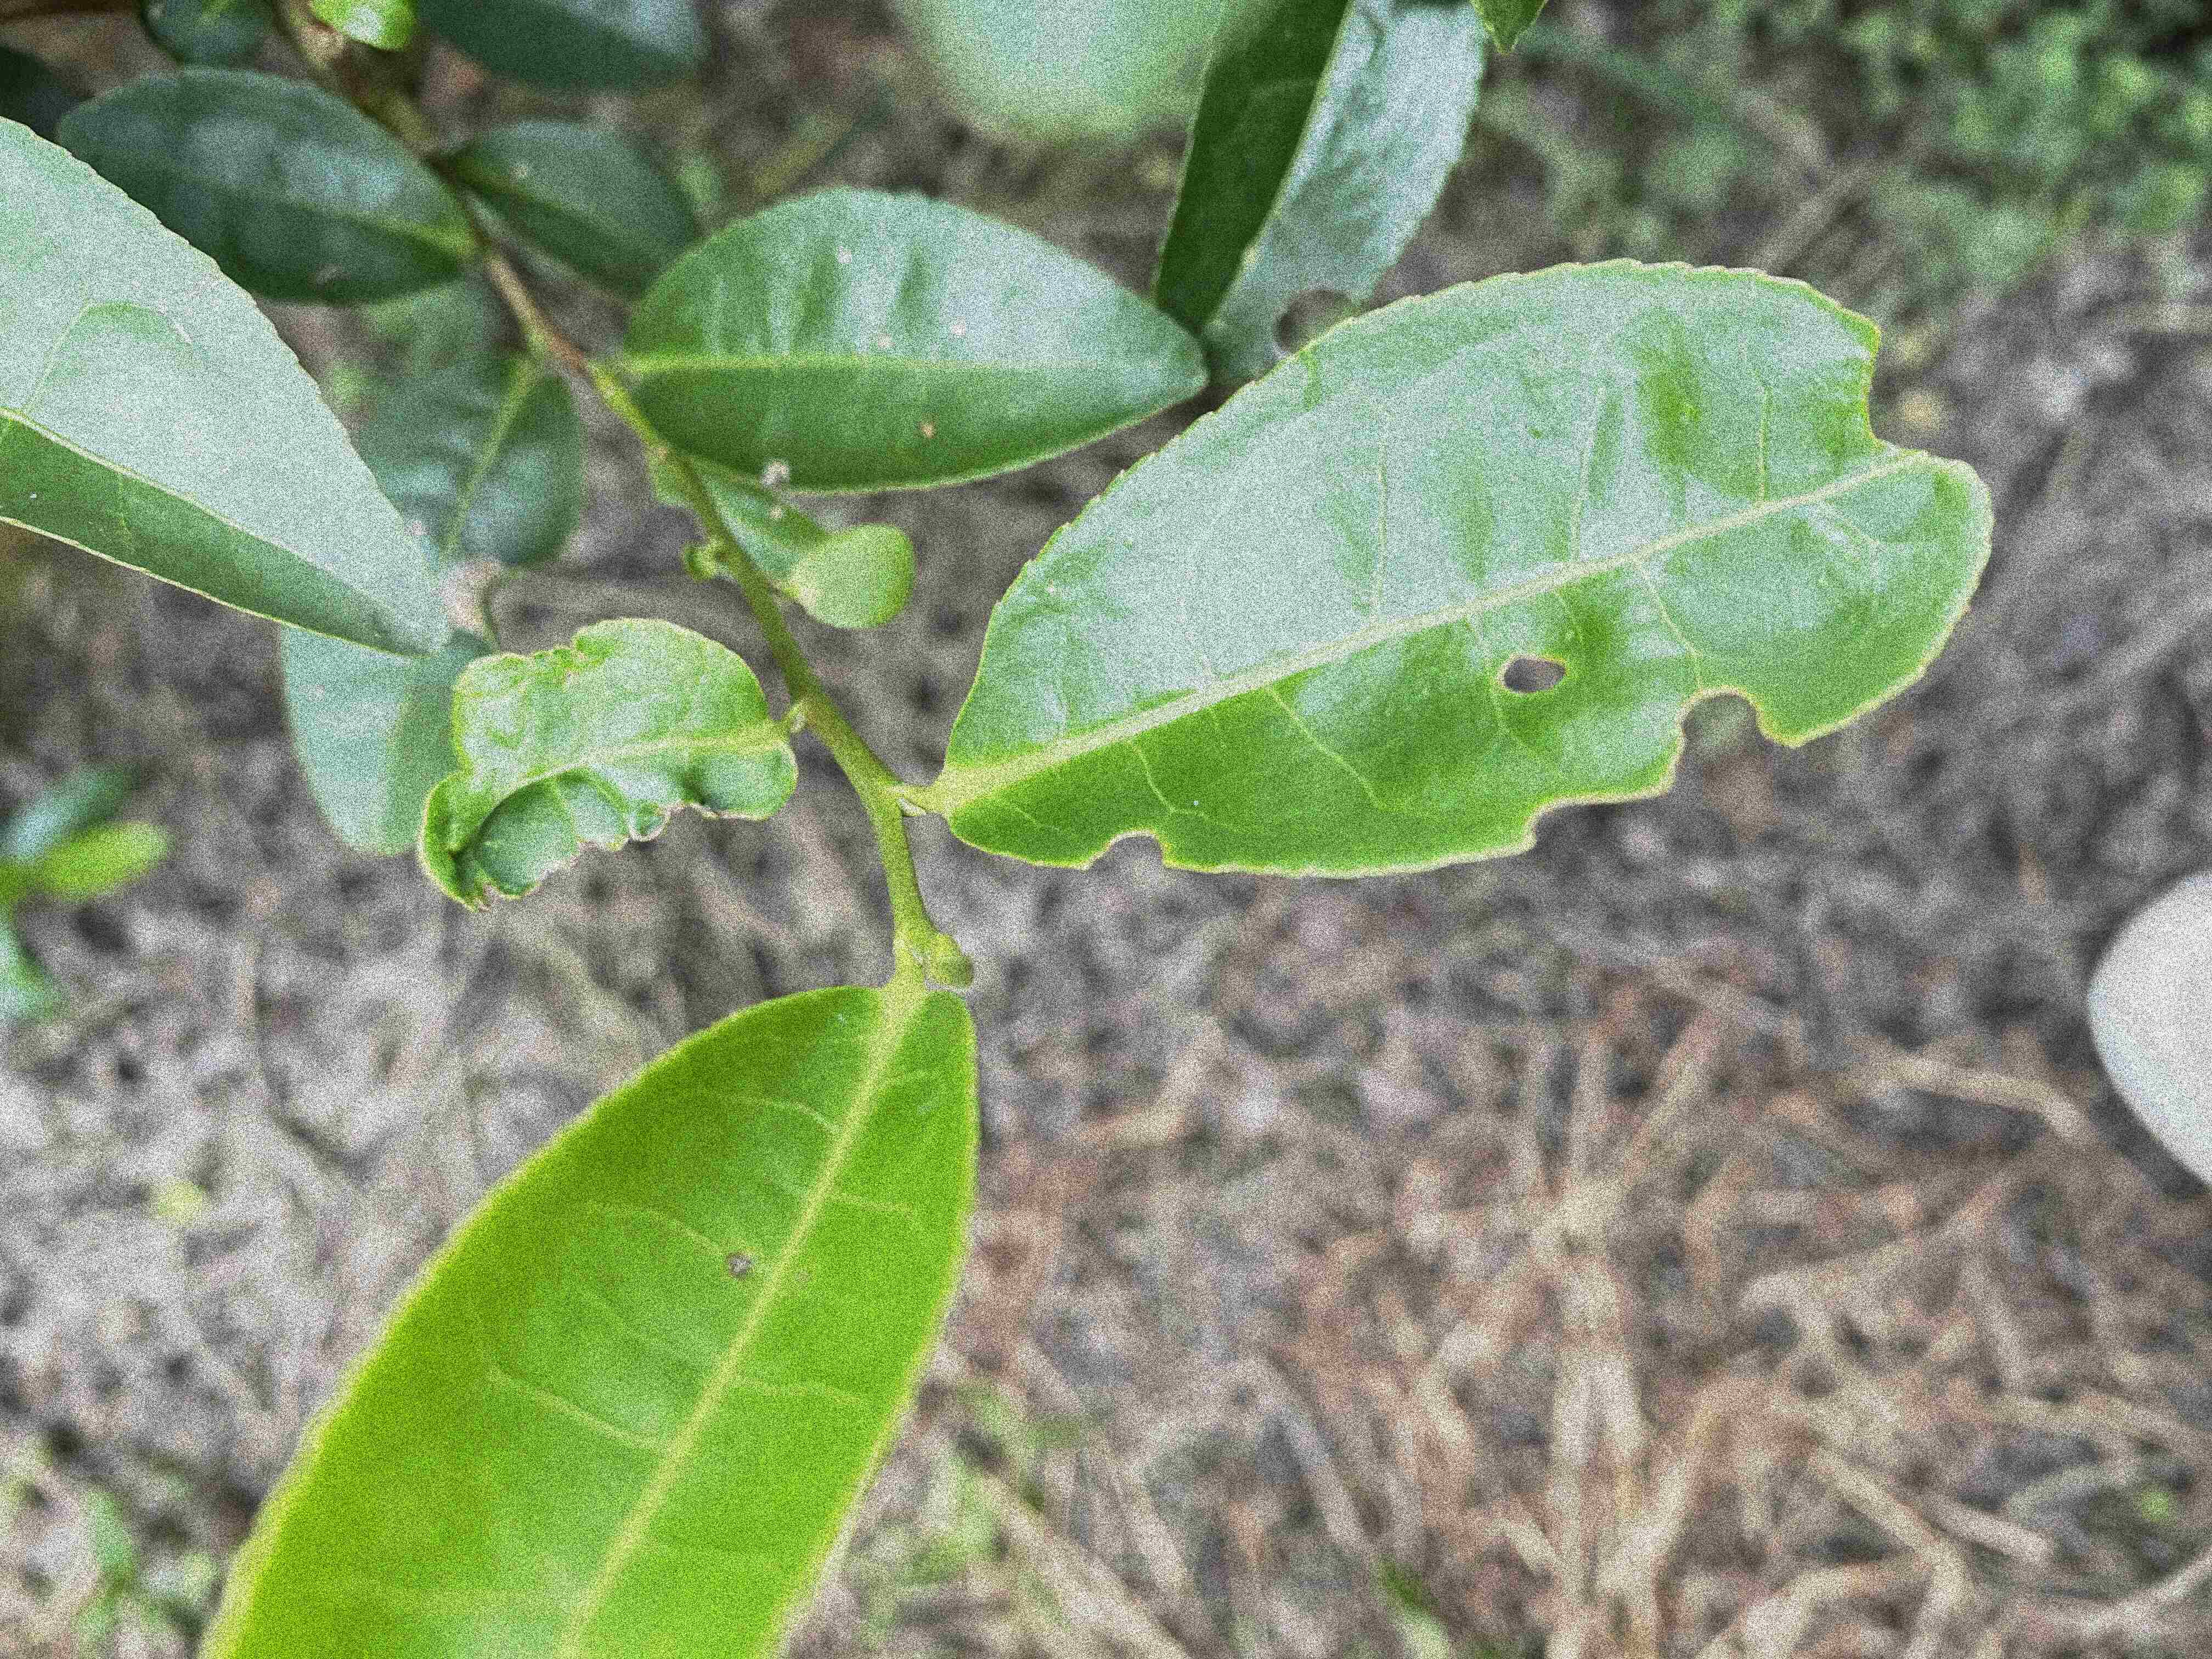chihuo_high: (935, 253, 1996, 884), (416, 619, 799, 918)
chihuo_low: (1151, 0, 1486, 387)
healthy: (2, 115, 451, 660)
tanju_low: (212, 986, 974, 1657), (613, 186, 1212, 497)
